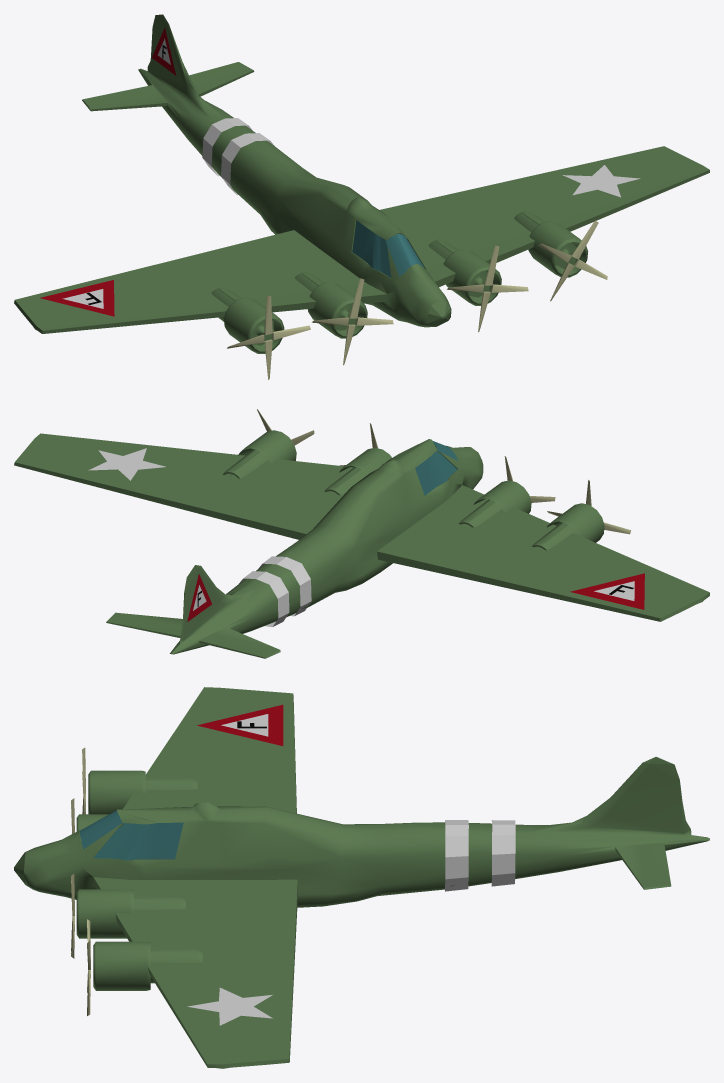
The model's file is cimpletoon.f32c67875649.bomber.glb.
3 renders of one model, top to bottom at view 1: azimuth 30°, elevation 25°; view 2: azimuth 150°, elevation 25°; view 3: azimuth 270°, elevation 25°, orthographic. The views are drawn at different scales.
Parts seen in each view (by area): view 1: bomber.glb; view 2: bomber.glb; view 3: bomber.glb.
Part boxes in pixels (x1=…): bomber.glb: x1=14, y1=14, x2=709, y2=379; bomber.glb: x1=14, y1=409, x2=709, y2=658; bomber.glb: x1=14, y1=687, x2=709, y2=1068.
Size of the model in its own units: 3.93 by 0.8257 by 3.09.
1 material, 1 textured.
